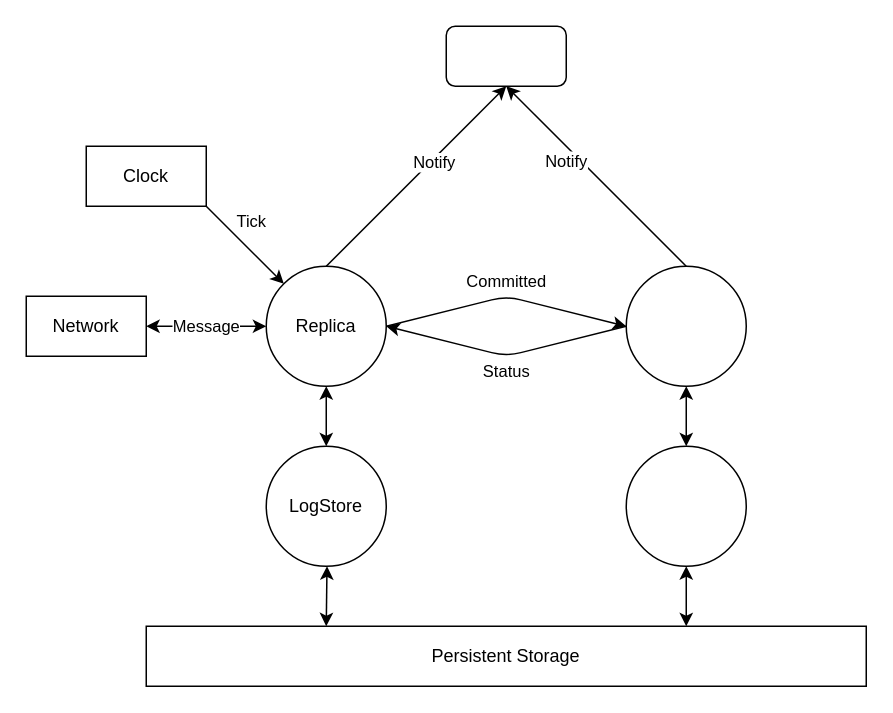
The diagram is 893 pixels wide and 713 high, and some of its shapes have lost their labels. Here are the shapes that lost their labels. From the top down, the centre of each, then its label:
At [505,55]: "Client".
At [685,325]: "Executor".
At [685,505]: "DataStore".
